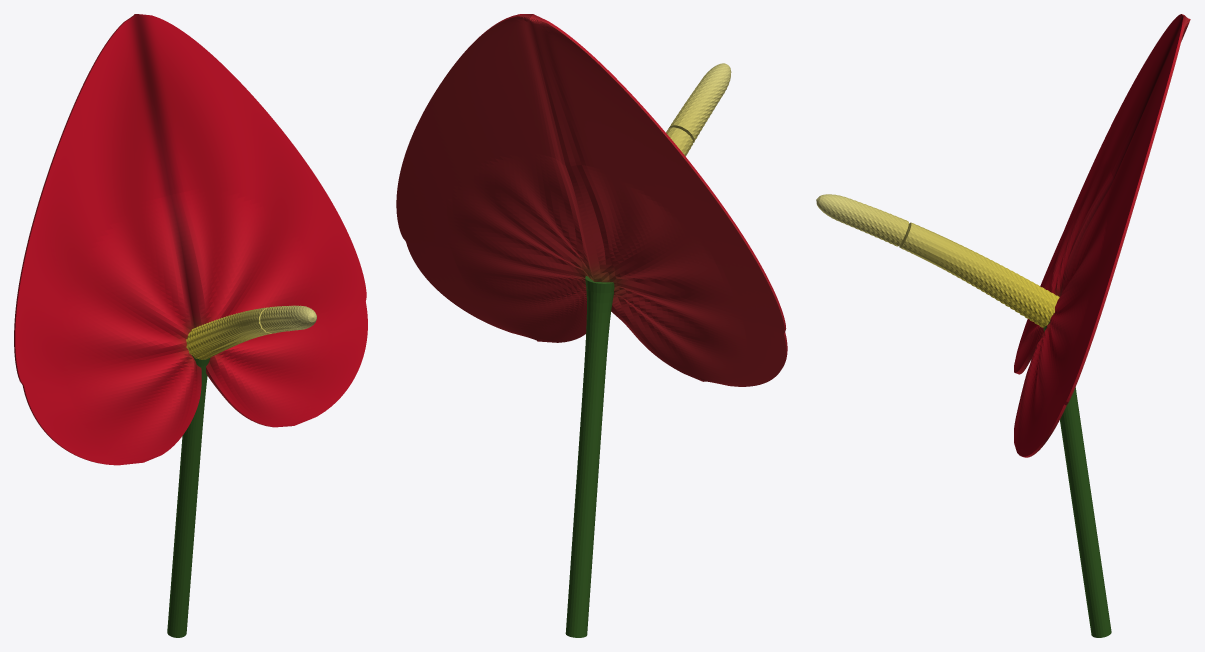
Rendered from anthurium_andraeanum.obj.
The picture shows the model from 3 angles, left to right: view 1: azimuth 30°, elevation 25°; view 2: azimuth 150°, elevation 25°; view 3: azimuth 270°, elevation 25°; orthographic projection. The views are drawn at different scales.
Visible parts, largest first — view 1: Espata_Cordiforme, Pedunculo_Tallo, Espadice_Florifero_Externo; view 2: Espata_Cordiforme, Pedunculo_Tallo, Espadice_Florifero_Externo; view 3: Espata_Cordiforme, Espadice_Florifero_Externo, Pedunculo_Tallo.
Part boxes in pixels (left/top/right/bottom): Espata_Cordiforme: left=14, top=14, right=367, bottom=465; Pedunculo_Tallo: left=167, top=355, right=210, bottom=637; Espadice_Florifero_Externo: left=186, top=305, right=316, bottom=359; Espata_Cordiforme: left=396, top=14, right=787, bottom=386; Pedunculo_Tallo: left=565, top=276, right=614, bottom=637; Espadice_Florifero_Externo: left=666, top=63, right=731, bottom=156; Espata_Cordiforme: left=1014, top=14, right=1190, bottom=457; Espadice_Florifero_Externo: left=816, top=194, right=1059, bottom=327; Pedunculo_Tallo: left=1043, top=322, right=1111, bottom=637.
Bounding box in the file's own units: 107 × 174 × 95.62.
